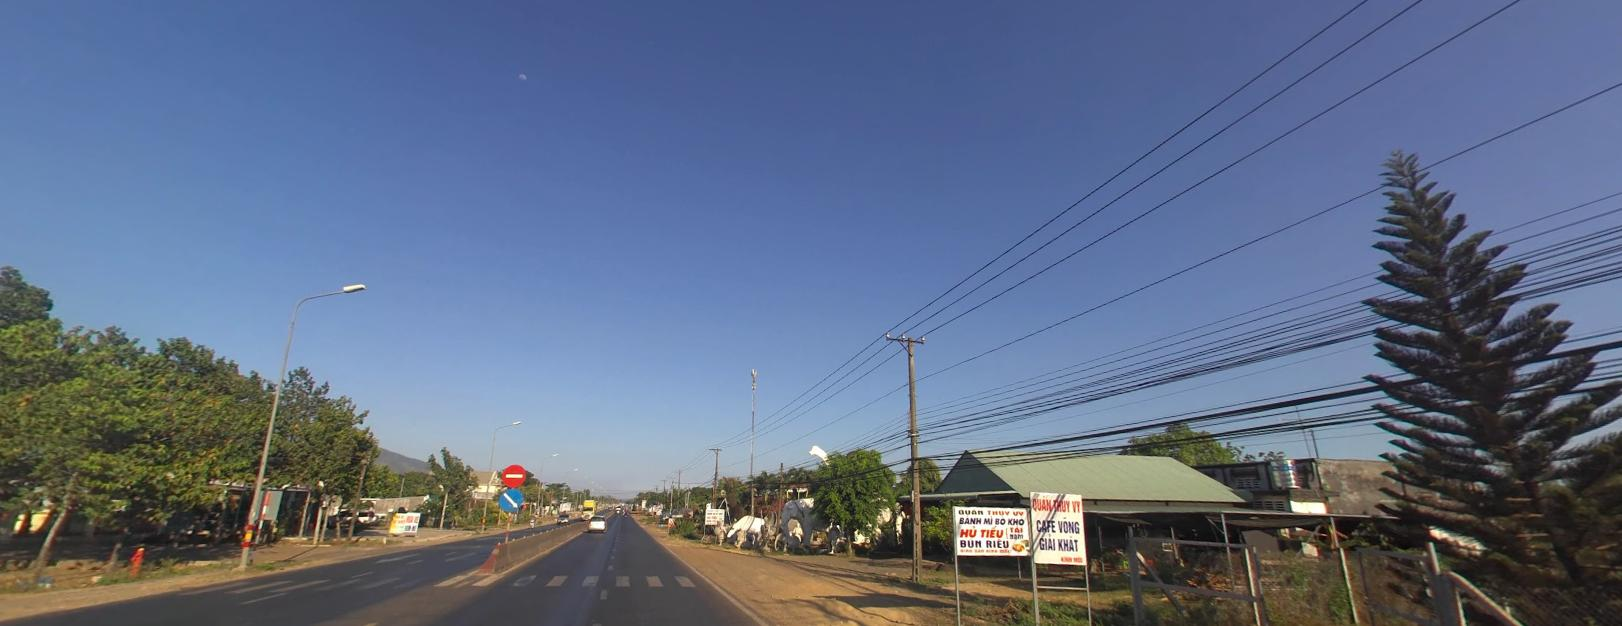Cam nguoc chieu: (502, 463, 526, 486), (502, 464, 526, 486), (502, 464, 525, 486)
Hieu lenh: (499, 487, 524, 511), (499, 488, 523, 511)
